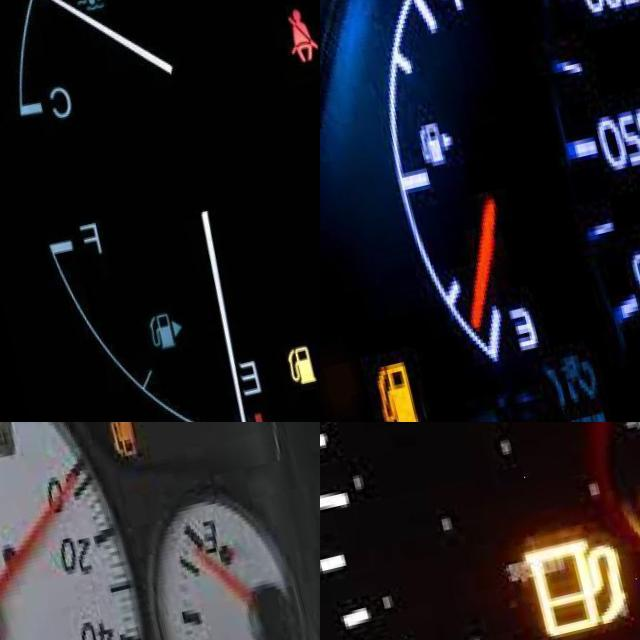Seat Belt: (269, 22, 315, 82)
